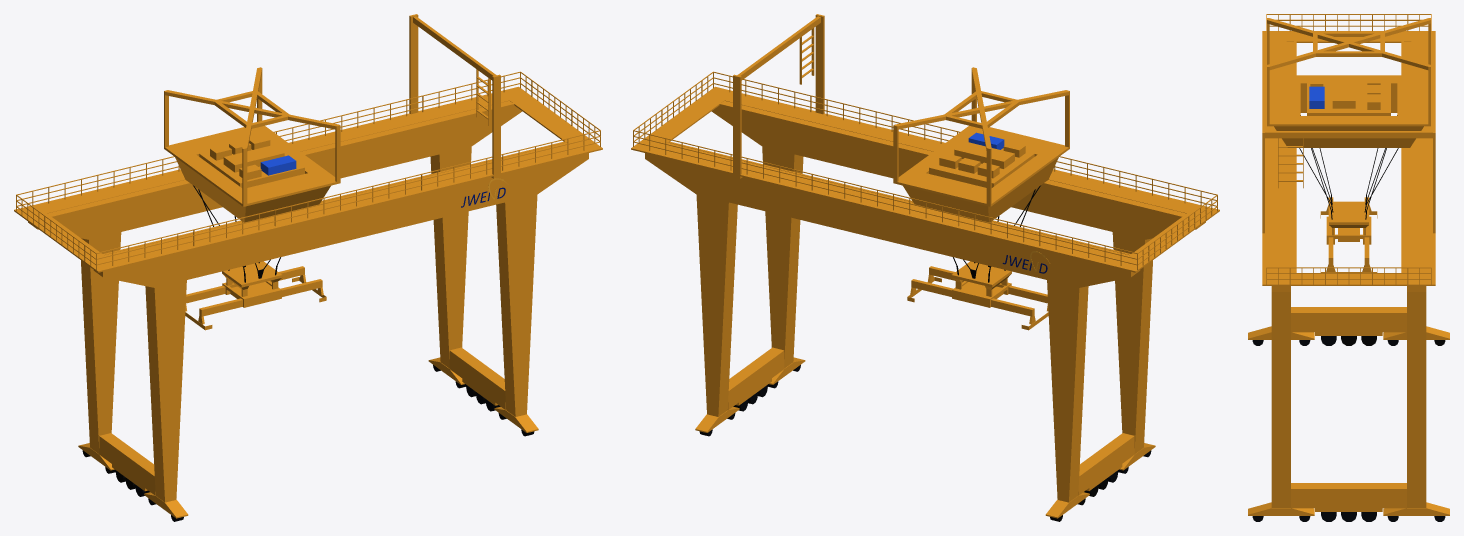
The model's file is 龙门吊3d.FBX.
3 views of the same model, side by side, from view 1: azimuth 30°, elevation 25°; view 2: azimuth 150°, elevation 25°; view 3: azimuth 270°, elevation 25° (orthographic). The views are drawn at different scales.
Visible parts, largest first — view 1: 物件_1, 物件_43; view 2: 物件_1, 物件_43; view 3: 物件_1, 物件_43, 物件_156, 物件_161.
Boxes of the visible parts, x1,y1,x2,y2 form: 物件_1: (14, 14, 602, 518); 物件_43: (82, 365, 534, 521); 物件_1: (631, 14, 1219, 518); 物件_43: (699, 365, 1151, 521); 物件_1: (1248, 14, 1449, 515); 物件_43: (1252, 336, 1445, 521); 物件_156: (1299, 115, 1398, 219); 物件_161: (1309, 86, 1324, 108).
Size of the model in its own units: 1510 by 1040 by 508.
